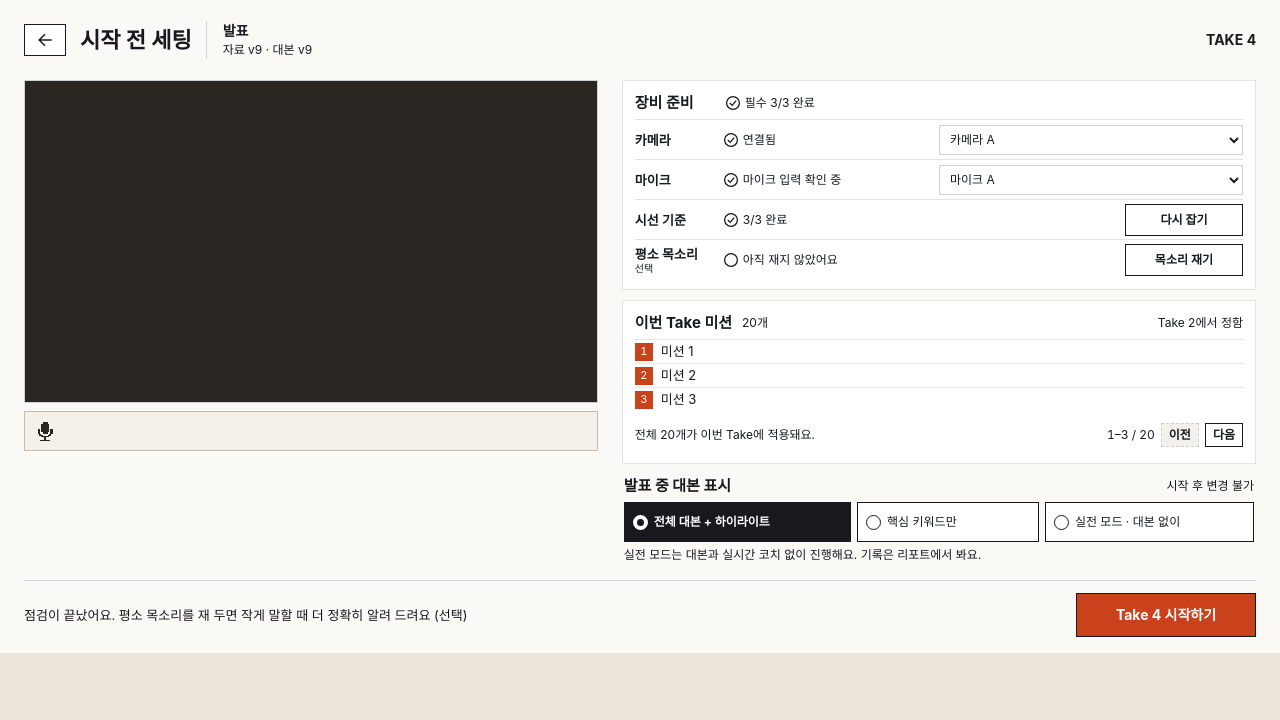
Scenario: still summarizes missions after starting fails and keeps retry available
What coordinates should you click on to do the following:
click the button "Take 4 시작하기"
I would click on:
 (1166, 615)
Its box is [1076, 593, 1256, 637].
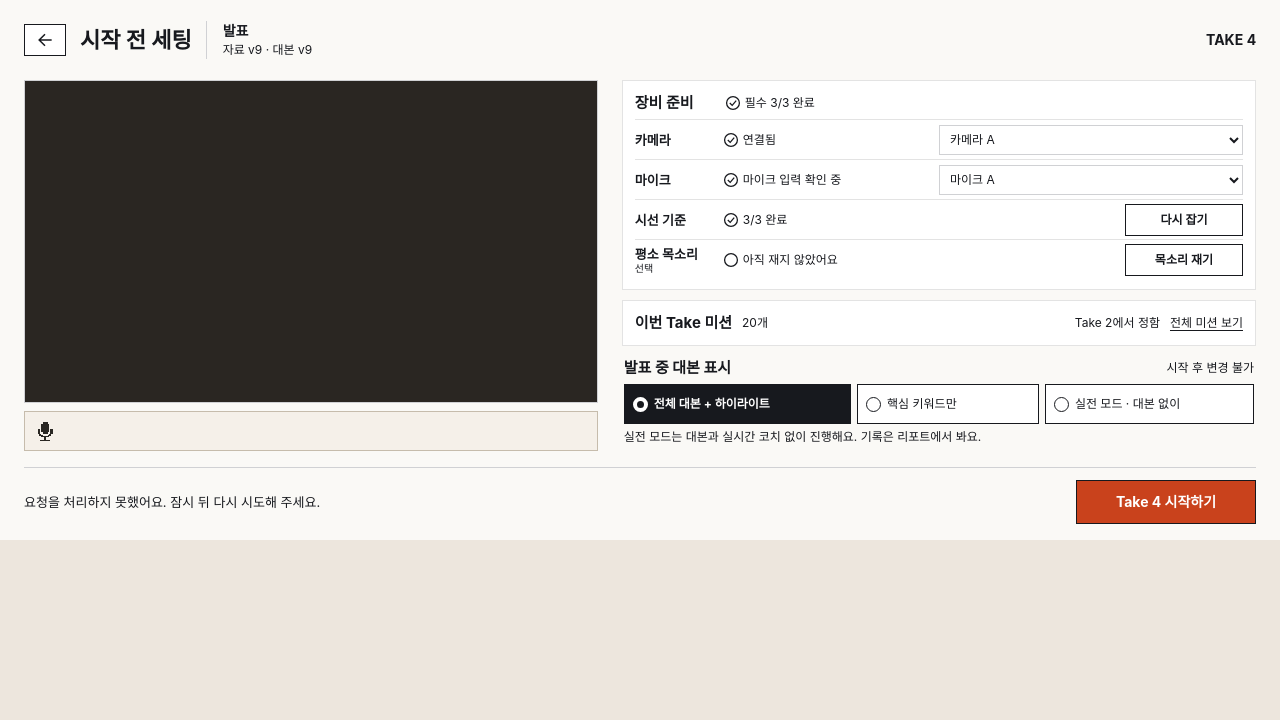
Now the footer shows "요청을 처리하지 못했어요.", box [24, 494, 320, 510]
Now the element showing "이번 Take 미션 20개 Take 2에서 정함 전체 미션 보기" is shown, box [622, 300, 1256, 346]
Now the button "전체 미션 보기" is shown, box [1170, 311, 1243, 335]
